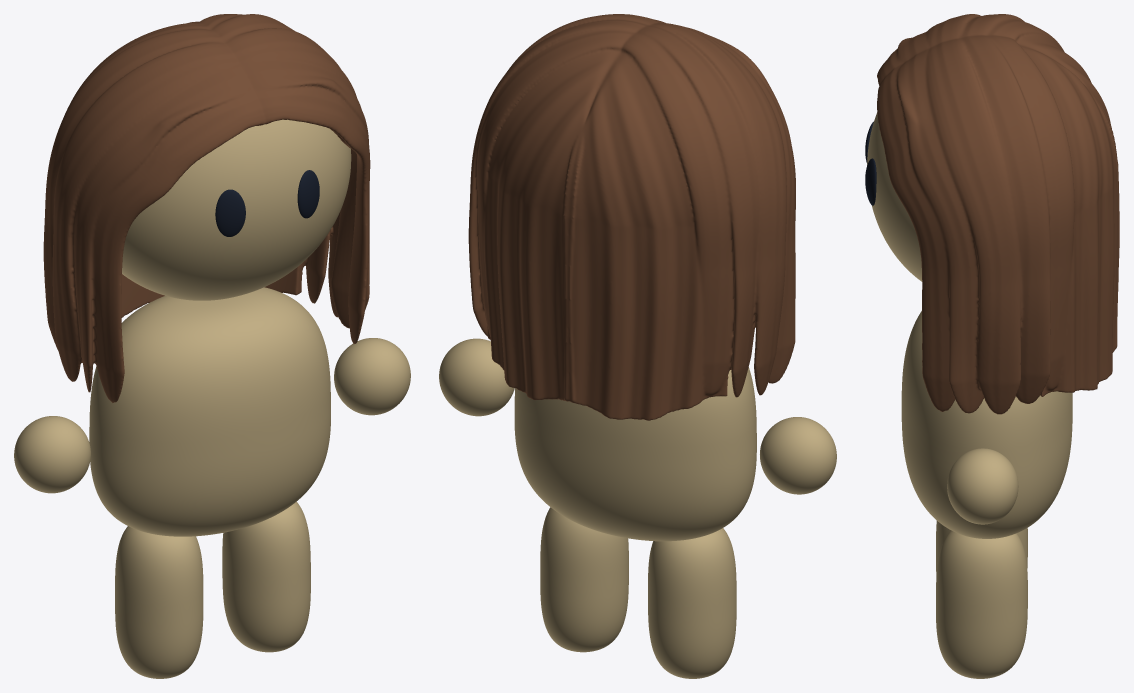
Rendered from Feminine-skin1.glb.
The picture shows the model from 3 angles, left to right: view 1: azimuth 30°, elevation 25°; view 2: azimuth 150°, elevation 25°; view 3: azimuth 270°, elevation 25°; orthographic projection. The views are drawn at different scales.
Parts seen in each view (by area): view 1: Hair / Straight blended sculpt, Skin / compact torso with skirt outline, Skin / soft oval head, Skin / leg -1, Skin / leg 1, Skin / hand -1, Skin / hand 1, Eye / dark oval -1, Eye / dark oval 1; view 2: Hair / Straight blended sculpt, Skin / compact torso with skirt outline, Skin / leg -1, Skin / leg 1, Skin / hand -1, Skin / hand 1; view 3: Hair / Straight blended sculpt, Skin / compact torso with skirt outline, Skin / leg 1, Skin / hand 1, Skin / soft oval head, Skin / leg -1, Eye / dark oval 1.
Part boxes in pixels (bbox=[...]): Hair / Straight blended sculpt: bbox=[43, 14, 370, 402]; Skin / compact torso with skirt outline: bbox=[89, 287, 330, 536]; Skin / soft oval head: bbox=[122, 119, 351, 300]; Skin / leg -1: bbox=[115, 526, 203, 678]; Skin / leg 1: bbox=[222, 501, 310, 652]; Skin / hand -1: bbox=[14, 416, 90, 493]; Skin / hand 1: bbox=[334, 338, 410, 415]; Eye / dark oval -1: bbox=[215, 189, 245, 236]; Eye / dark oval 1: bbox=[297, 170, 319, 218]; Hair / Straight blended sculpt: bbox=[468, 14, 795, 420]; Skin / compact torso with skirt outline: bbox=[514, 367, 756, 541]; Skin / leg -1: bbox=[648, 528, 736, 678]; Skin / leg 1: bbox=[540, 507, 628, 652]; Skin / hand -1: bbox=[760, 417, 836, 494]; Skin / hand 1: bbox=[439, 338, 514, 416]; Hair / Straight blended sculpt: bbox=[877, 14, 1119, 414]; Skin / compact torso with skirt outline: bbox=[901, 311, 1072, 538]; Skin / leg 1: bbox=[936, 530, 1027, 678]; Skin / hand 1: bbox=[947, 448, 1018, 524]; Skin / soft oval head: bbox=[867, 112, 922, 281]; Skin / leg -1: bbox=[936, 520, 1027, 574]; Eye / dark oval 1: bbox=[865, 158, 876, 205].
Bounding box in the file's own units: 1.49 × 2.31 × 0.8691.
